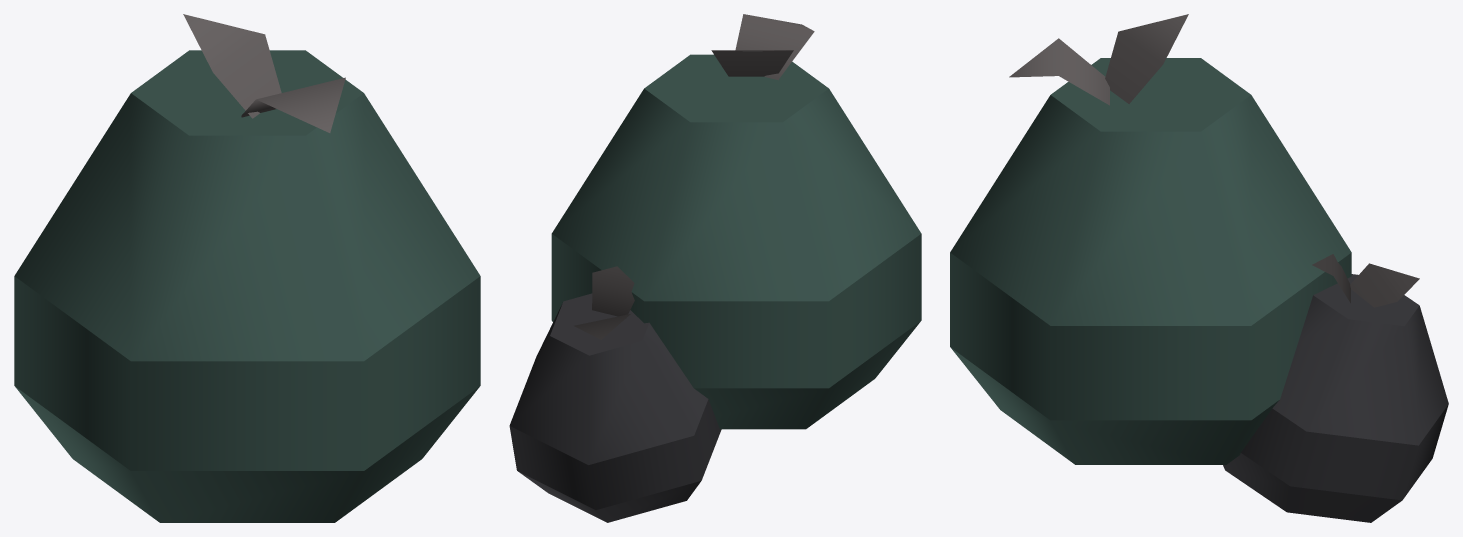
The model's file is trashbags.fbx.
3 renders of one model, left to right at view 1: azimuth 30°, elevation 25°; view 2: azimuth 150°, elevation 25°; view 3: azimuth 270°, elevation 25°, orthographic. The views are drawn at different scales.
Visible parts, largest first — view 1: leafs_cone, plant_smallLeaf, plant_largeLeaf; view 2: leafs_cone (×2), plant_largeLeaf (×2), plant_smallLeaf (×2); view 3: leafs_cone (×2), plant_smallLeaf (×2), plant_largeLeaf (×2).
Part boxes in pixels (left/top/right/bottom): leafs_cone: left=14, top=50, right=480, bottom=522; plant_smallLeaf: left=183, top=14, right=281, bottom=118; plant_largeLeaf: left=241, top=77, right=345, bottom=132; leafs_cone (×2): left=509, top=54, right=921, bottom=522; plant_largeLeaf (×2): left=592, top=14, right=814, bottom=316; plant_smallLeaf (×2): left=574, top=50, right=793, bottom=339; leafs_cone (×2): left=950, top=58, right=1448, bottom=522; plant_smallLeaf (×2): left=1105, top=14, right=1419, bottom=307; plant_largeLeaf (×2): left=1009, top=38, right=1350, bottom=303.
Bounding box in the file's own units: 10 × 14.3 × 14.34.
